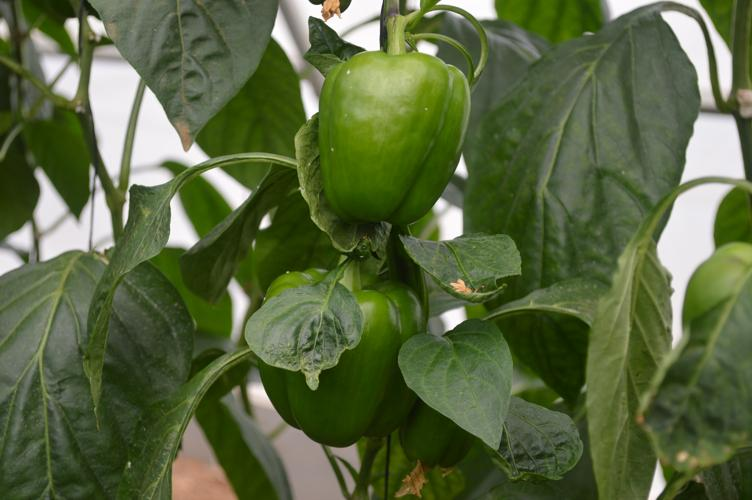BellPepper: (257, 269, 423, 442), (319, 52, 469, 231), (412, 397, 480, 466)
